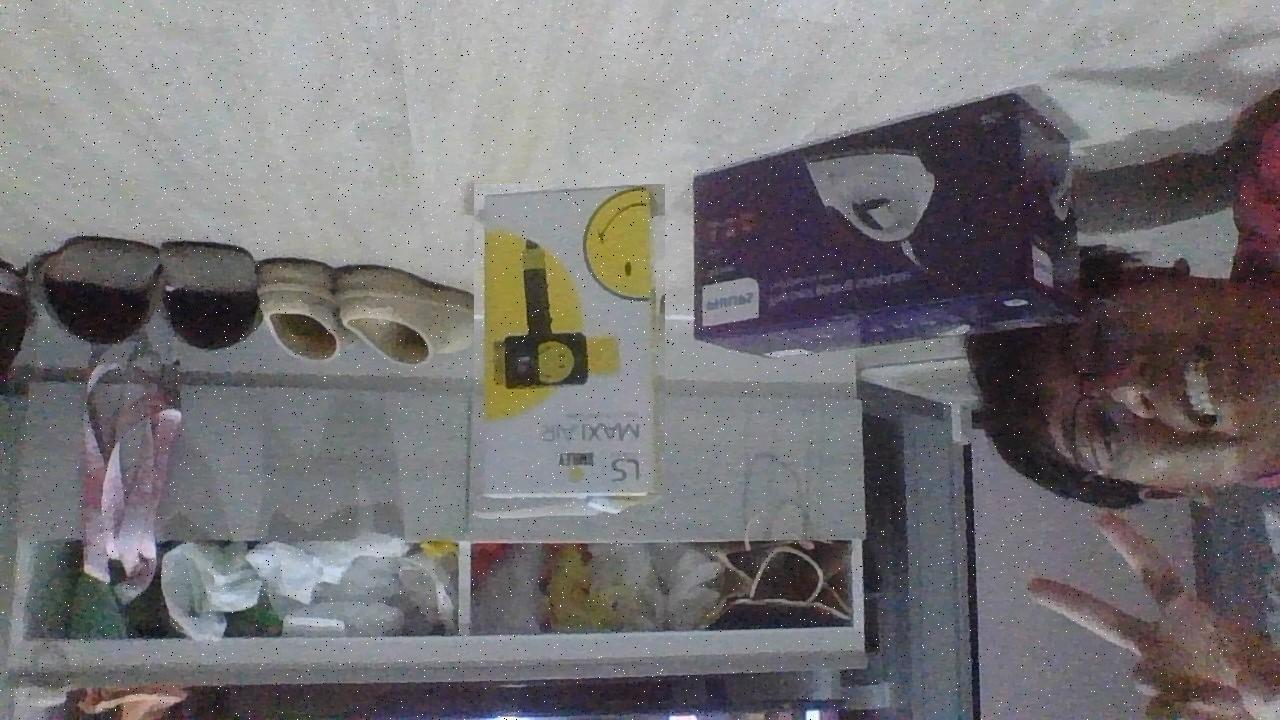Dryer: (474, 184, 665, 520)
IRON: (687, 89, 1090, 366)
